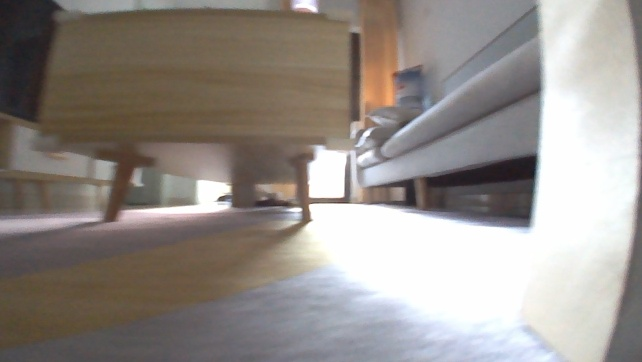TV_stand1: (0, 111, 145, 209)
blanket: (0, 200, 433, 361)
sofa: (350, 0, 545, 210)
tea_table1: (36, 0, 356, 225)
